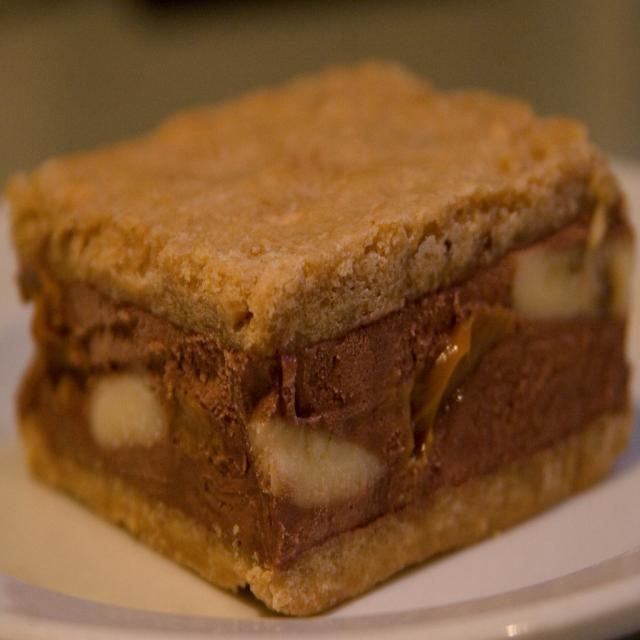Sandwich: (2, 57, 639, 619)
